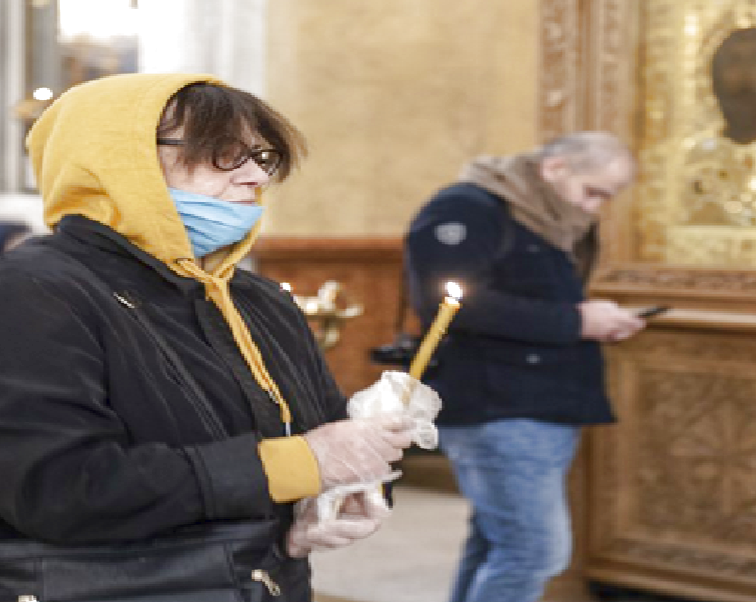mask_weared_incorrect: (34, 72, 287, 257)
